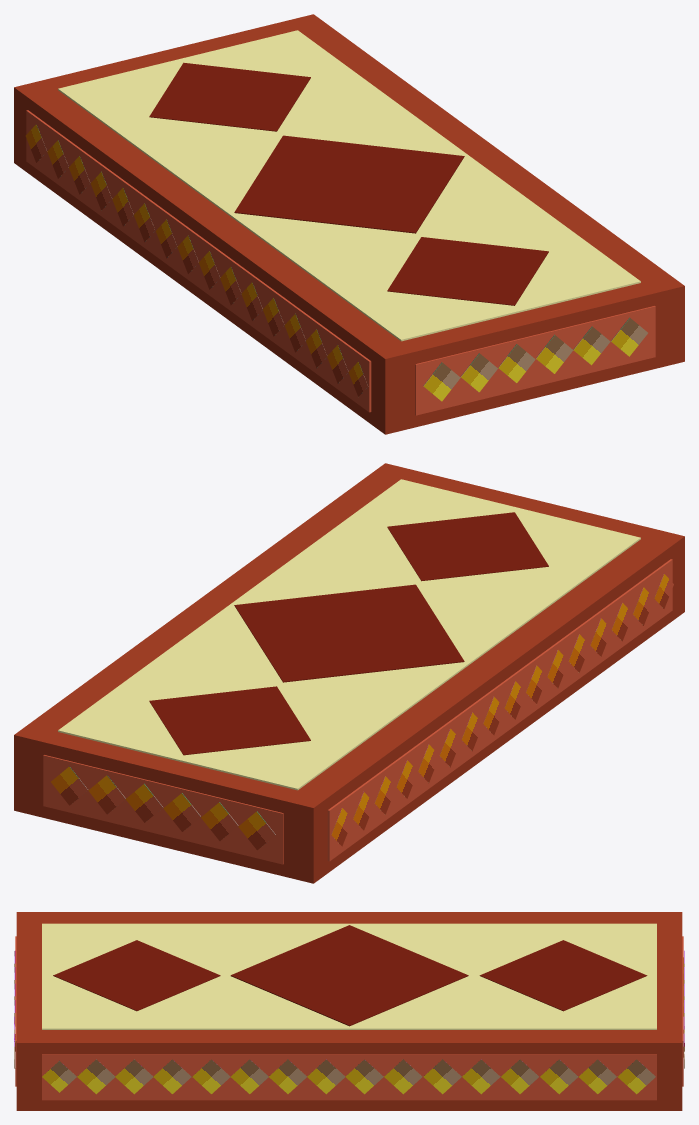
File: plataformaparaunity.fbx
3 views of the same model, one above another, from view 1: azimuth 30°, elevation 25°; view 2: azimuth 150°, elevation 25°; view 3: azimuth 270°, elevation 25° (orthographic). The views are drawn at different scales.
Visible parts, largest first — view 1: Plataforma; view 2: Plataforma; view 3: Plataforma.
Part boxes in pixels (box(x1,y1,x2,y2)): Plataforma: box(14, 14, 684, 434); Plataforma: box(14, 463, 684, 883); Plataforma: box(14, 912, 684, 1110).
Size of the model in its own units: 295 by 75.38 by 627.
1 material, 1 textured.
